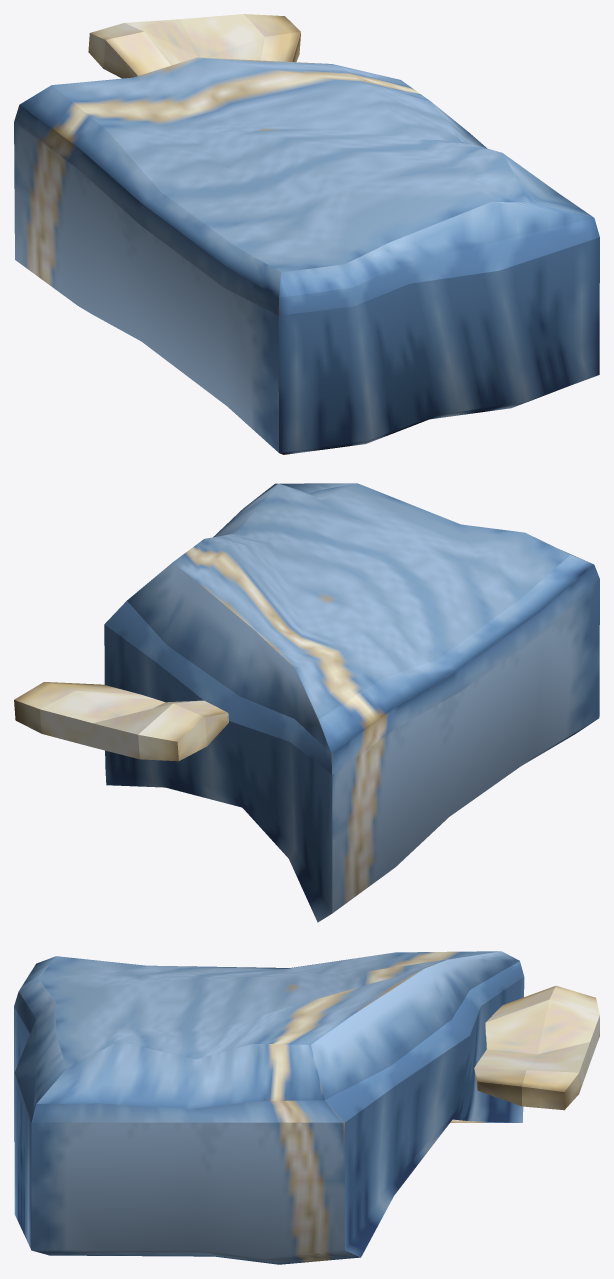
File: Inside_Poly_Bed_01_Blanket_02.obj
3 renders of one model, top to bottom at view 1: azimuth 30°, elevation 25°; view 2: azimuth 150°, elevation 25°; view 3: azimuth 270°, elevation 25°, orthographic. The views are drawn at different scales.
Parts seen in each view (by area): view 1: Cube.003, Cube.004; view 2: Cube.003, Cube.004; view 3: Cube.003, Cube.004.
Part boxes in pixels (x1,y1,x2,y2): Cube.003: (14, 57, 599, 454); Cube.004: (88, 14, 300, 78); Cube.003: (104, 483, 599, 922); Cube.004: (14, 682, 228, 761); Cube.003: (14, 951, 524, 1264); Cube.004: (474, 985, 599, 1110).
Bounding box in the file's own units: 1.01 × 0.7017 × 1.71.
Materials: 1 (1 with a texture image).
